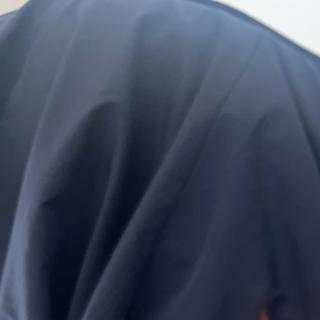fire: (255, 313, 279, 320)
